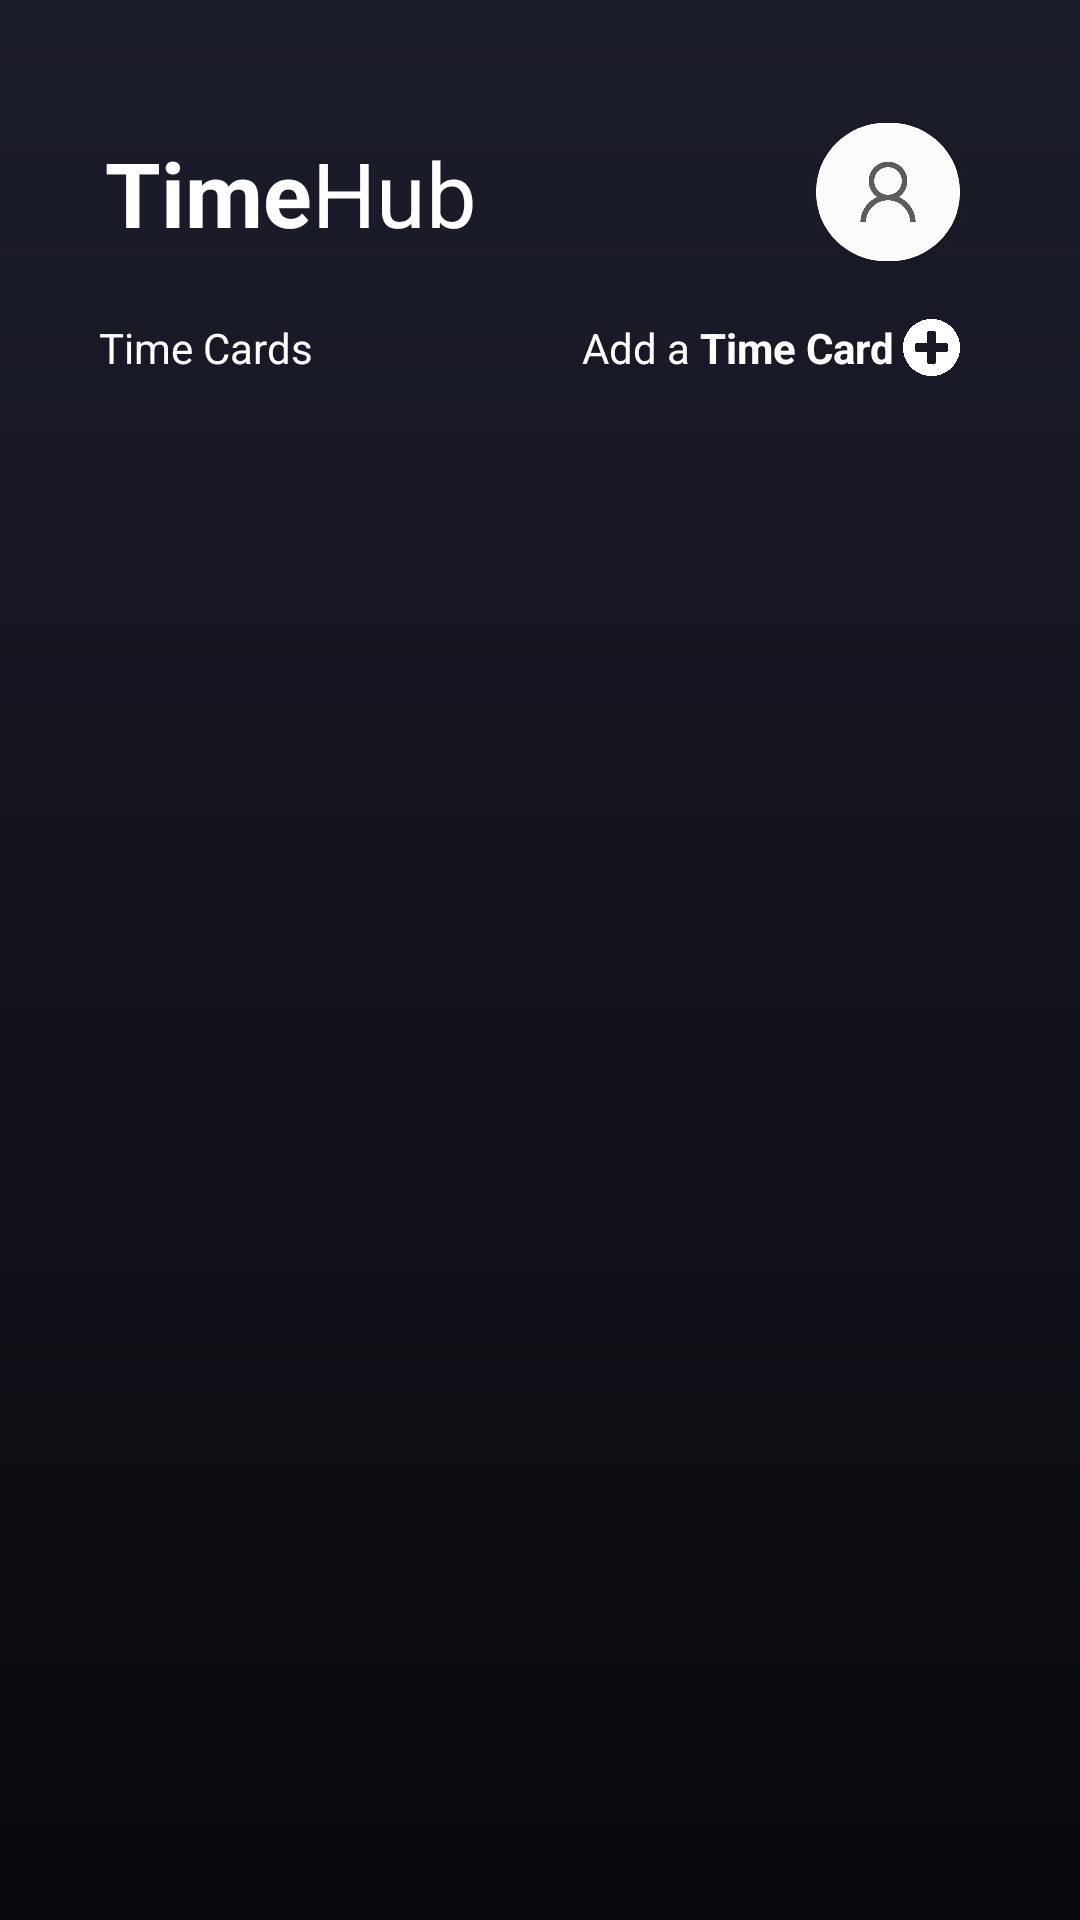

Icon bounding boxes for this 1080x1920 phone screenshot, format (x1, y1, x2, y2):
no pfp: (816, 123, 960, 261)
plus: (903, 319, 960, 376)
